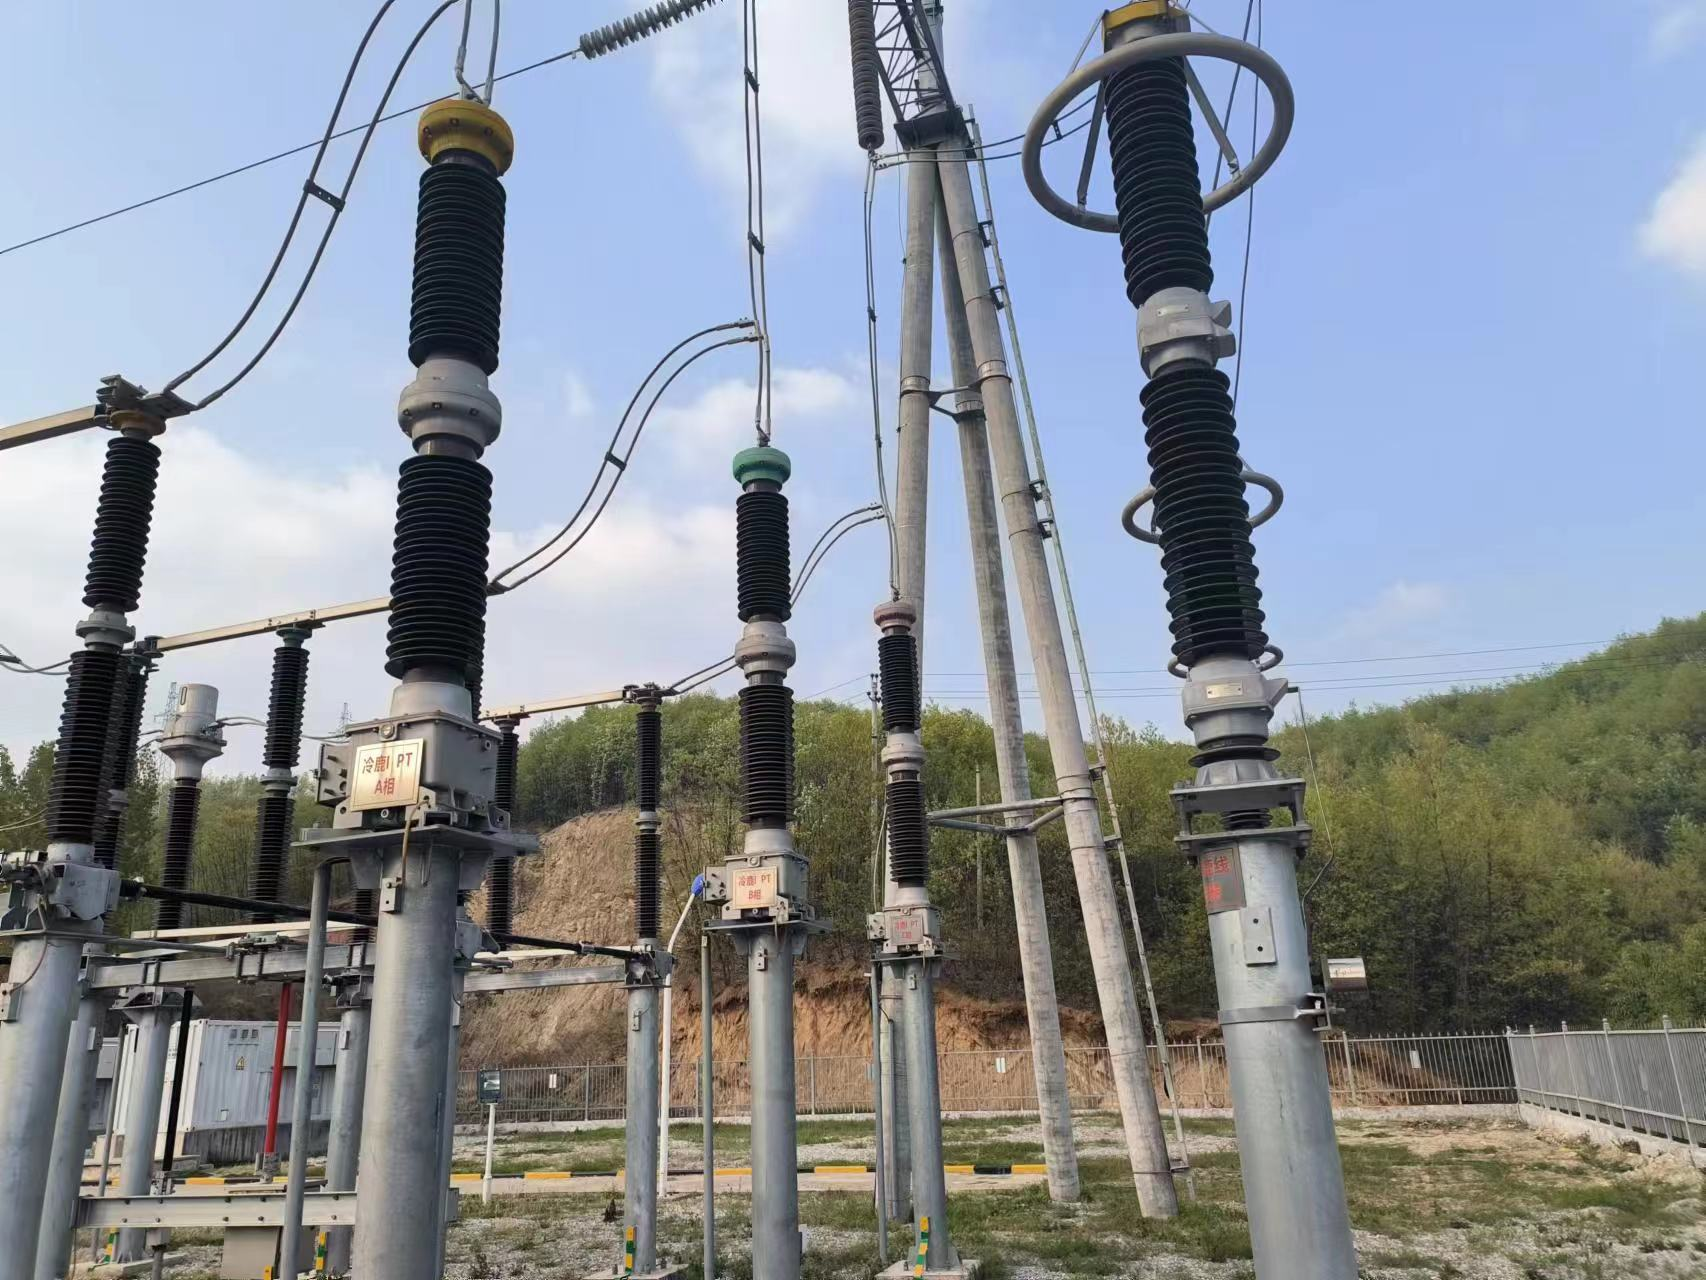Arrester: (1019, 1, 1293, 662)
